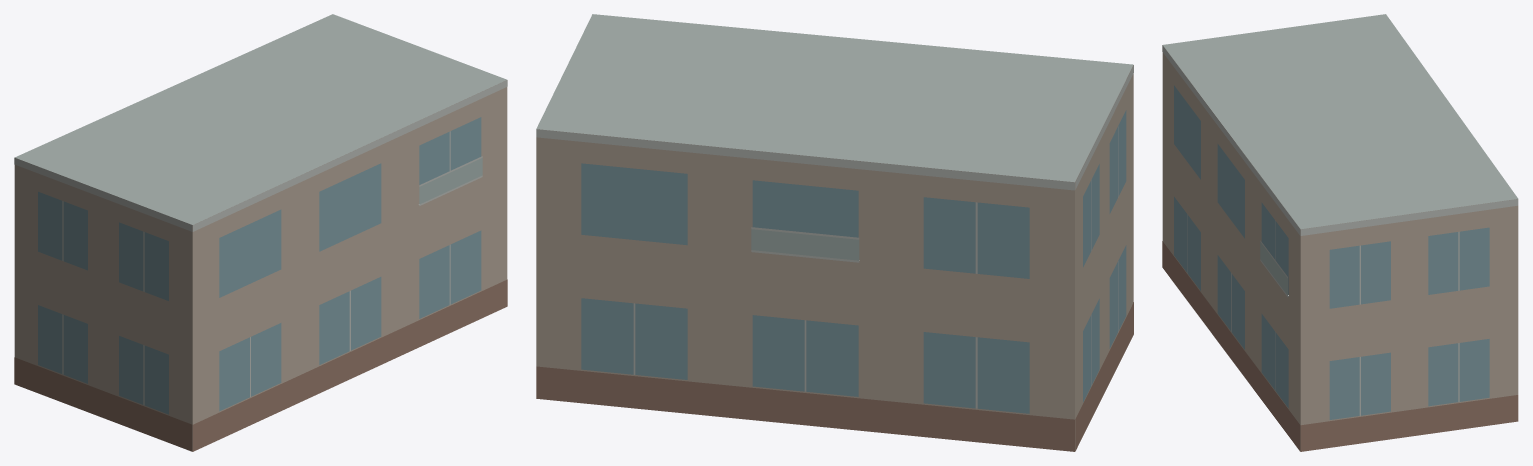
The model's file is survey-upis-32841851.glb.
3 views of the same model, side by side, from view 1: azimuth 30°, elevation 25°; view 2: azimuth 150°, elevation 25°; view 3: azimuth 270°, elevation 25° (orthographic). The views are drawn at different scales.
Parts seen in each view (by area): view 1: survey-upis-32841851.tmp; view 2: survey-upis-32841851.tmp; view 3: survey-upis-32841851.tmp.
Boxes of the visible parts, <box> form: survey-upis-32841851.tmp: <box>14,14,507,451</box>; survey-upis-32841851.tmp: <box>536,14,1133,451</box>; survey-upis-32841851.tmp: <box>1162,14,1518,451</box>.
Size of the model in its own units: 16.5 by 7.95 by 11.53.
